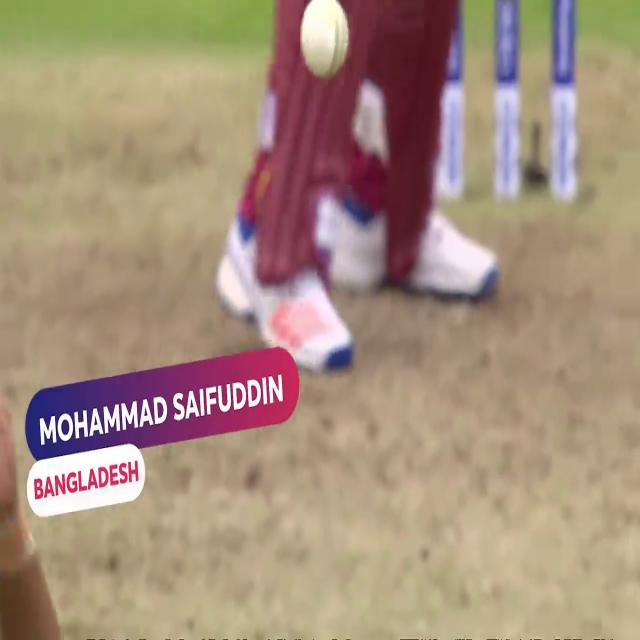ball: (298, 1, 354, 81)
